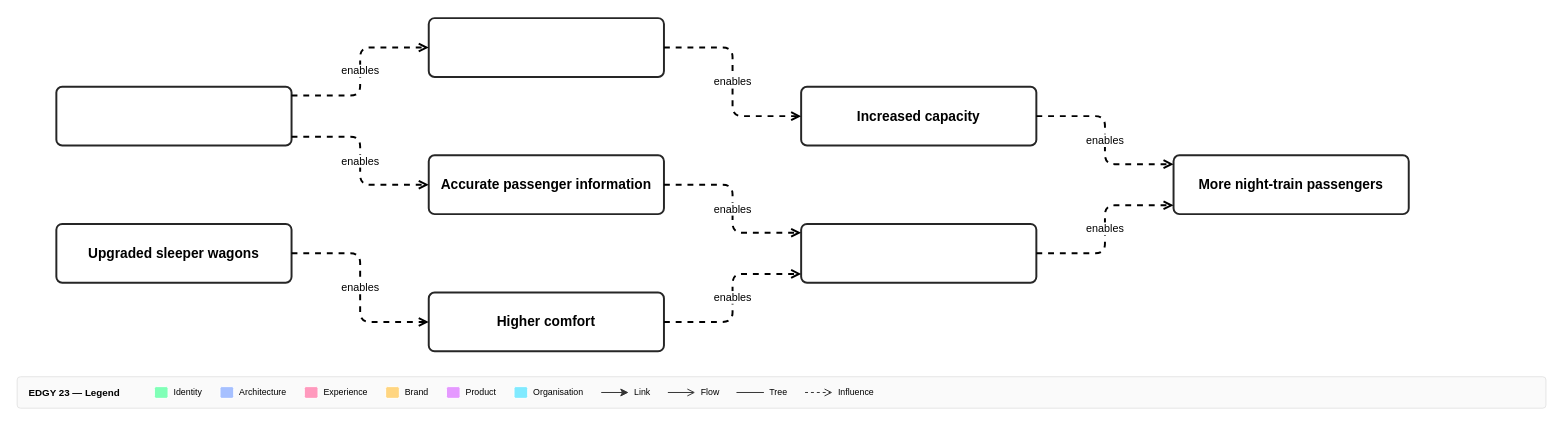
Some shapes in this 1563 by 425 pixel diagram are drawn without their labels. The shapes that lost their labels are listed below. From the top down, each one's centre as x and y in pixels, then its label:
At (x=545, y=47): "Route optimisation".
At (x=173, y=115): "Better partner integration".
At (x=918, y=252): "Better journey experience".
